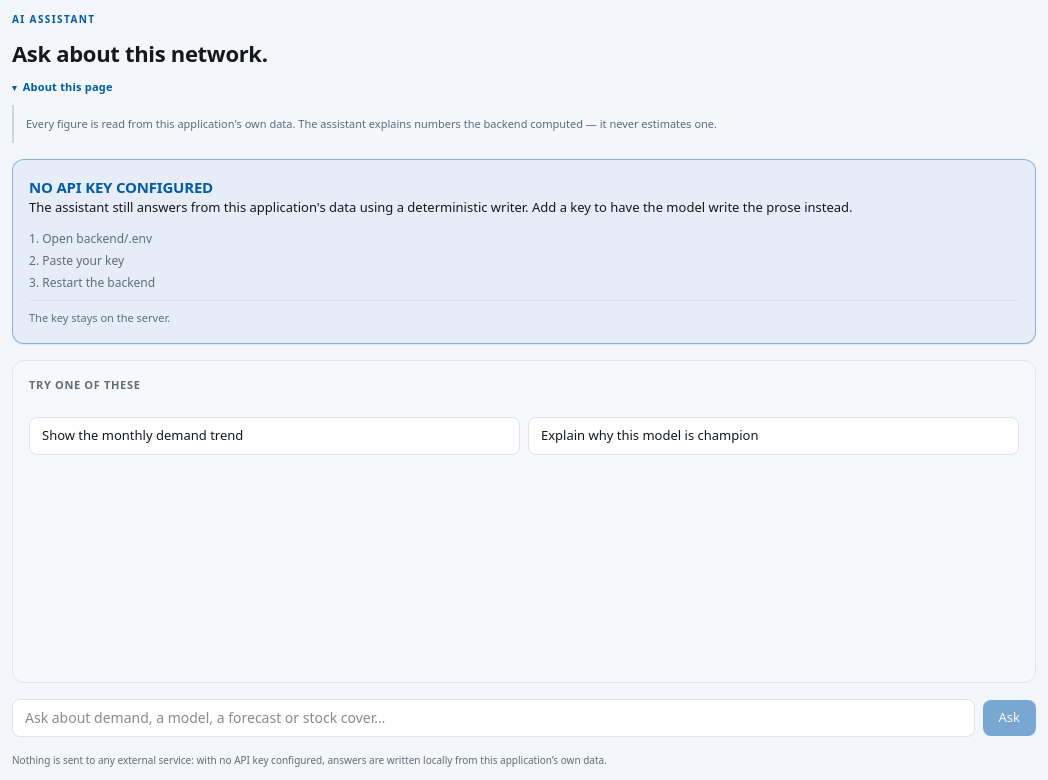
Test: AI Assistant › labels a deterministic answer as one rather than implying a model wrote it
Type "why?" into the field named "Ask a question about demand". click: (493, 718)
box: [12, 699, 974, 737]
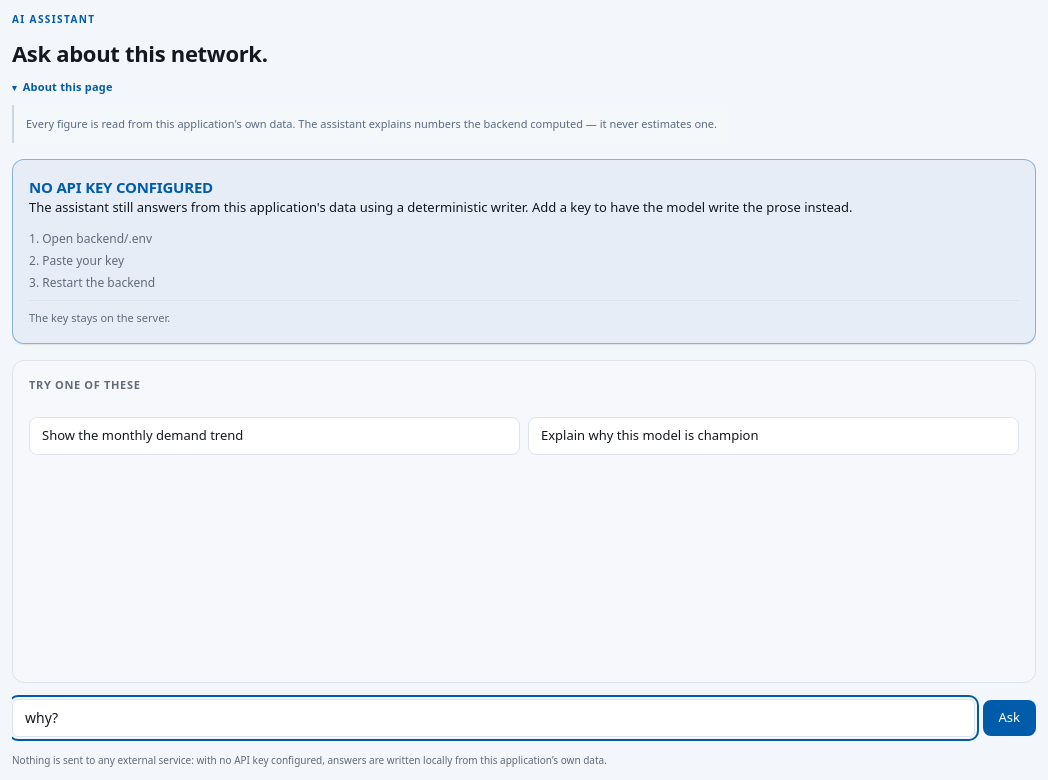
Click the button "Ask". click: click(1009, 718)
box: [982, 700, 1036, 736]
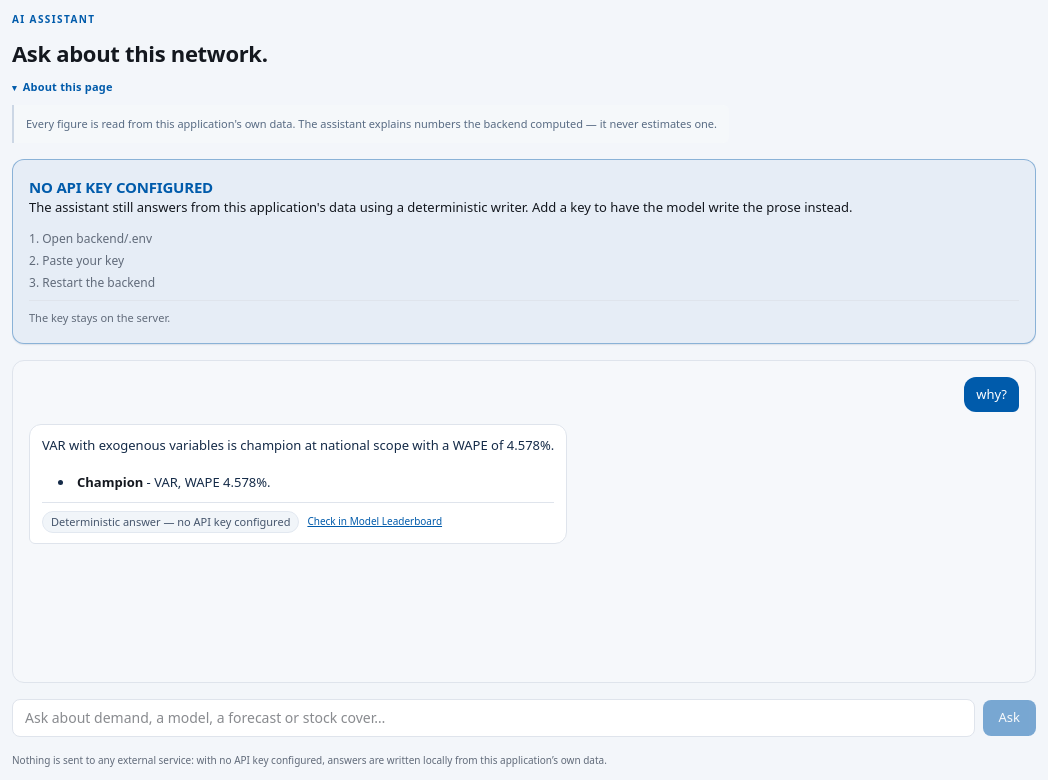
Result: the text "Deterministic answer — no API key configured" is shown at [42, 511, 299, 533]
